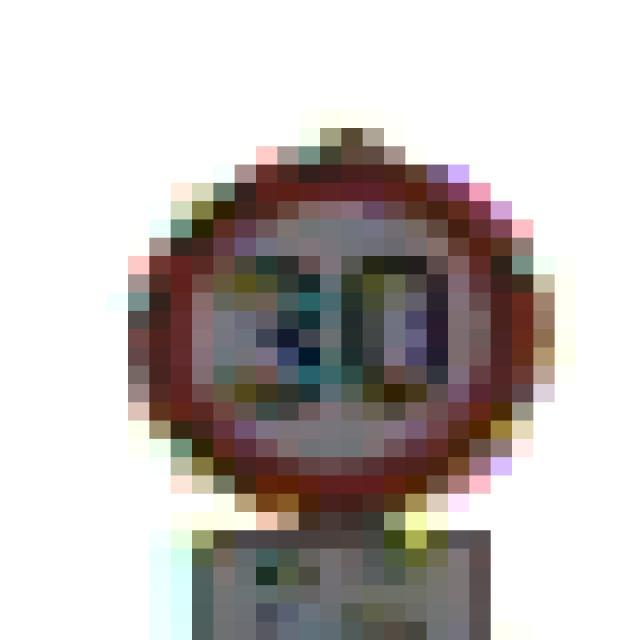Speed Limit -30-: (96, 100, 523, 522)
